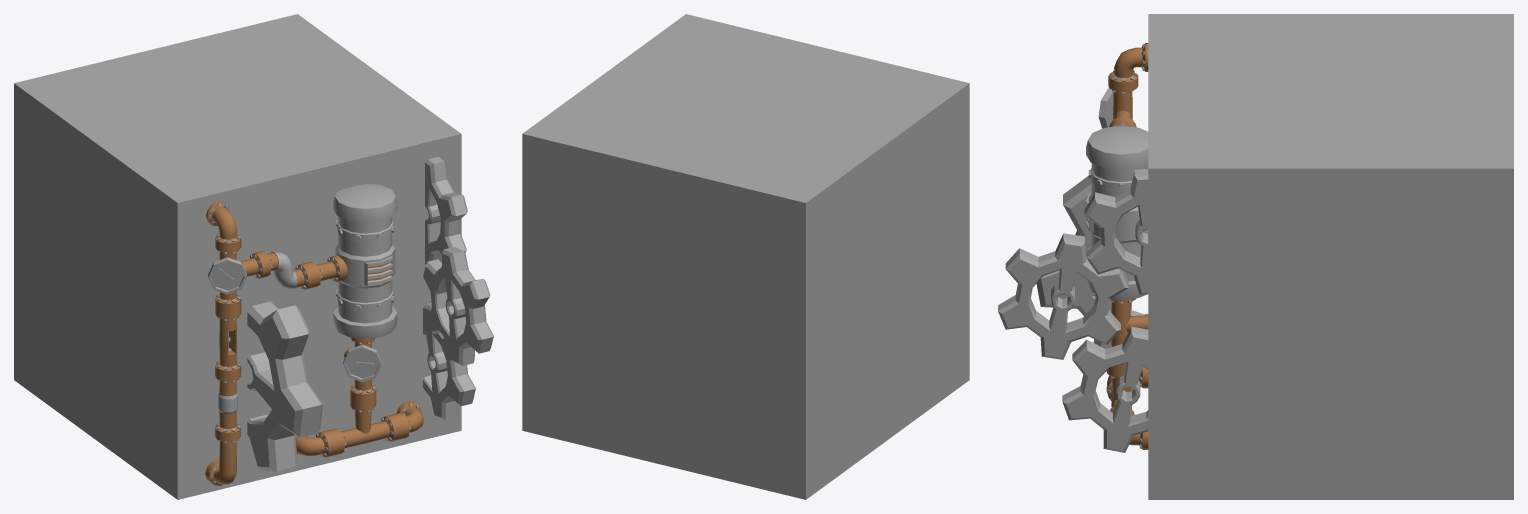
The model's file is gj_wall_005.fbx.
3 renders of one model, left to right at view 1: azimuth 30°, elevation 25°; view 2: azimuth 150°, elevation 25°; view 3: azimuth 270°, elevation 25°, orthographic. The views are drawn at different scales.
Visible parts, largest first — view 1: gj_pipe_024; view 2: gj_pipe_024; view 3: gj_pipe_024.
Boxes of the visible parts, x1,y1,x2,y2 form: gj_pipe_024: (14,14,493,499); gj_pipe_024: (522,14,969,499); gj_pipe_024: (998,14,1513,499).
Size of the model in its own units: 0.7 by 0.7 by 0.9876.
